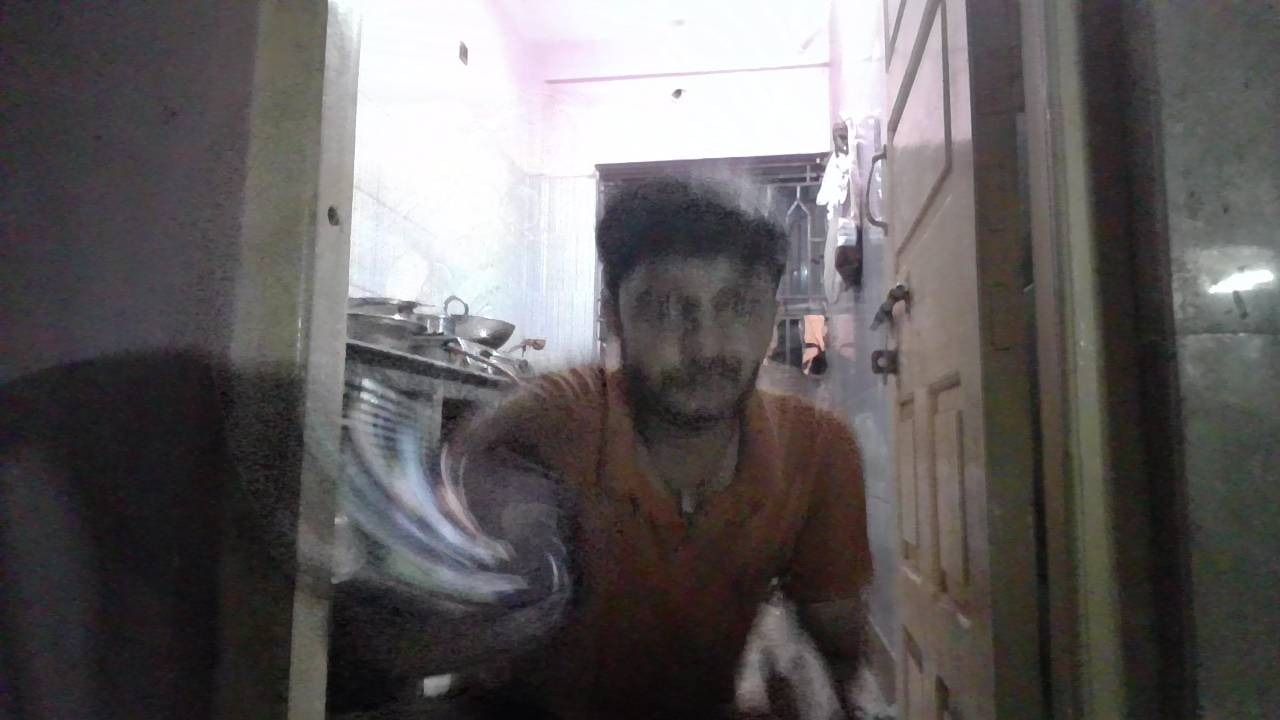red_box: (704, 399, 871, 576), (615, 474, 684, 533)
